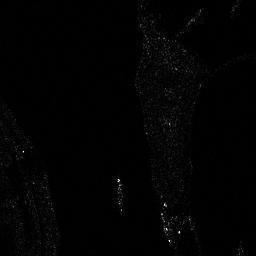ship: (115, 177, 126, 213)
